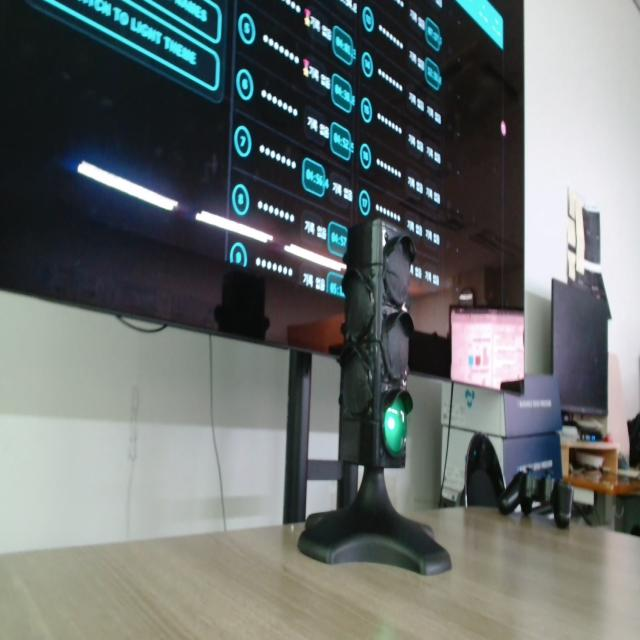green_light: (384, 398, 406, 456)
